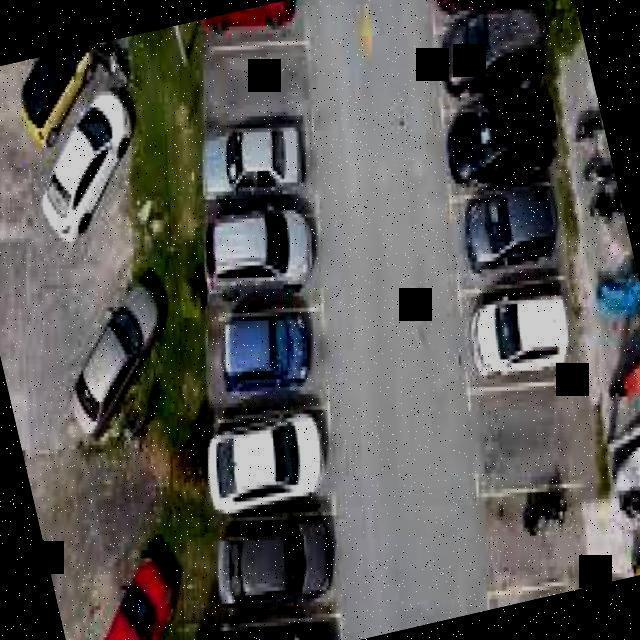space-empty: (455, 443, 635, 611), (446, 351, 612, 531), (183, 16, 329, 162), (445, 542, 618, 618)
space-occupied: (186, 480, 362, 640), (186, 388, 354, 546), (181, 177, 346, 334), (188, 295, 341, 444), (429, 161, 580, 305), (448, 268, 599, 403), (183, 99, 331, 235), (424, 69, 572, 205), (419, 0, 566, 117)
